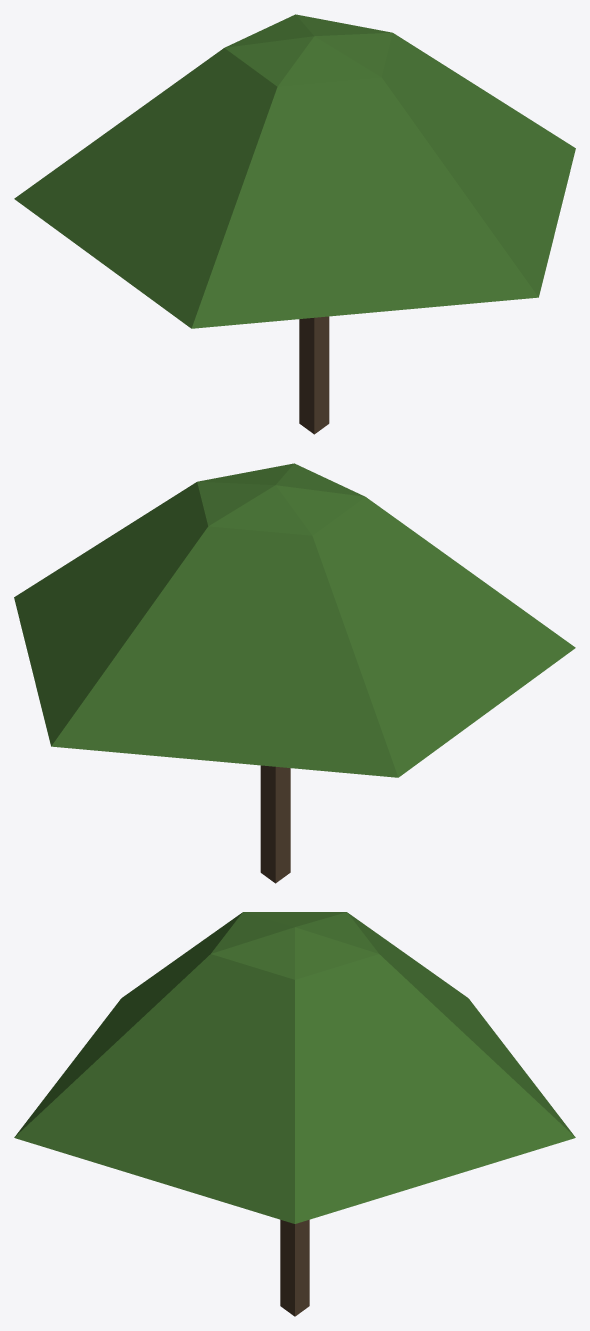
Rendered from spreading.L0.b26dda4b.glb.
3 renders of one model, top to bottom at view 1: azimuth 30°, elevation 25°; view 2: azimuth 150°, elevation 25°; view 3: azimuth 270°, elevation 25°, orthographic. The views are drawn at different scales.
Parts seen in each view (by area): view 1: A-TREES-SPREADING; view 2: A-TREES-SPREADING; view 3: A-TREES-SPREADING.
Boxes of the visible parts, bbox=[...] form: A-TREES-SPREADING: bbox=[14, 14, 575, 434]; A-TREES-SPREADING: bbox=[14, 463, 575, 883]; A-TREES-SPREADING: bbox=[14, 912, 575, 1316].
Size of the model in its own units: 11.4 by 9 by 11.98.
